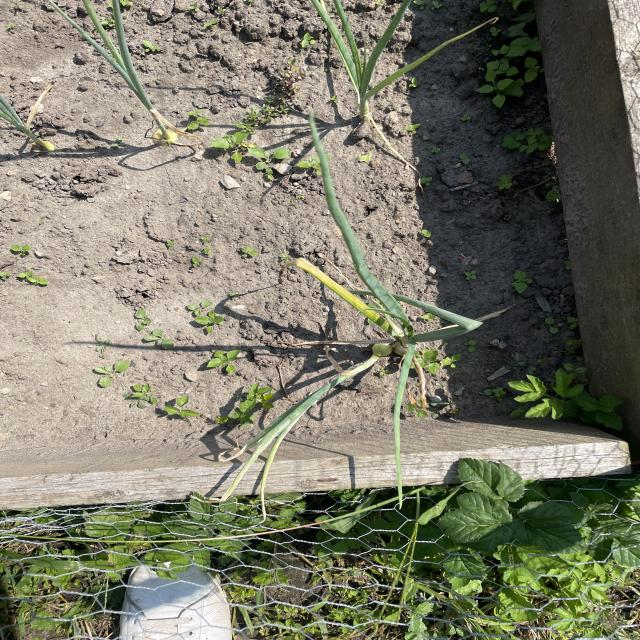Onion: (282, 241, 478, 406), (320, 27, 482, 140), (66, 1, 176, 144), (0, 95, 57, 152)
weed: (470, 0, 558, 112), (226, 379, 280, 428), (501, 122, 558, 160), (205, 345, 254, 376), (186, 298, 231, 331), (157, 393, 199, 428), (242, 142, 291, 172), (93, 356, 133, 390), (209, 131, 254, 159), (124, 376, 158, 412), (140, 323, 176, 354), (181, 106, 217, 137), (505, 264, 533, 302), (292, 153, 326, 182), (130, 306, 159, 331)
